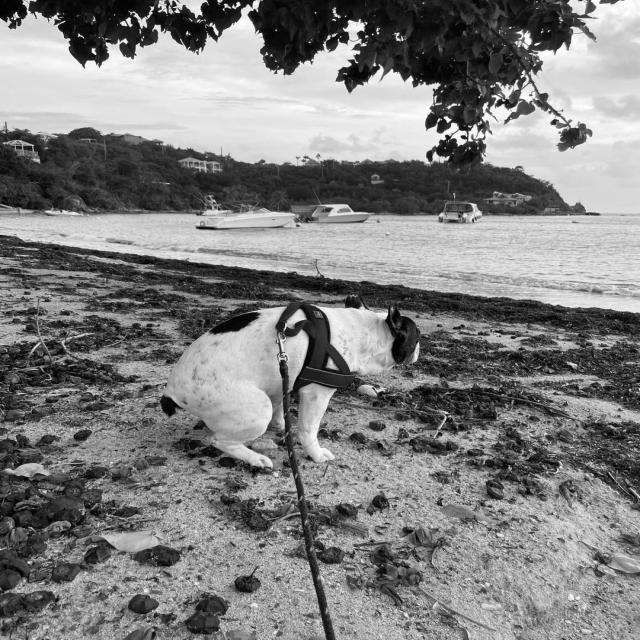squatting: (155, 291, 428, 470)
